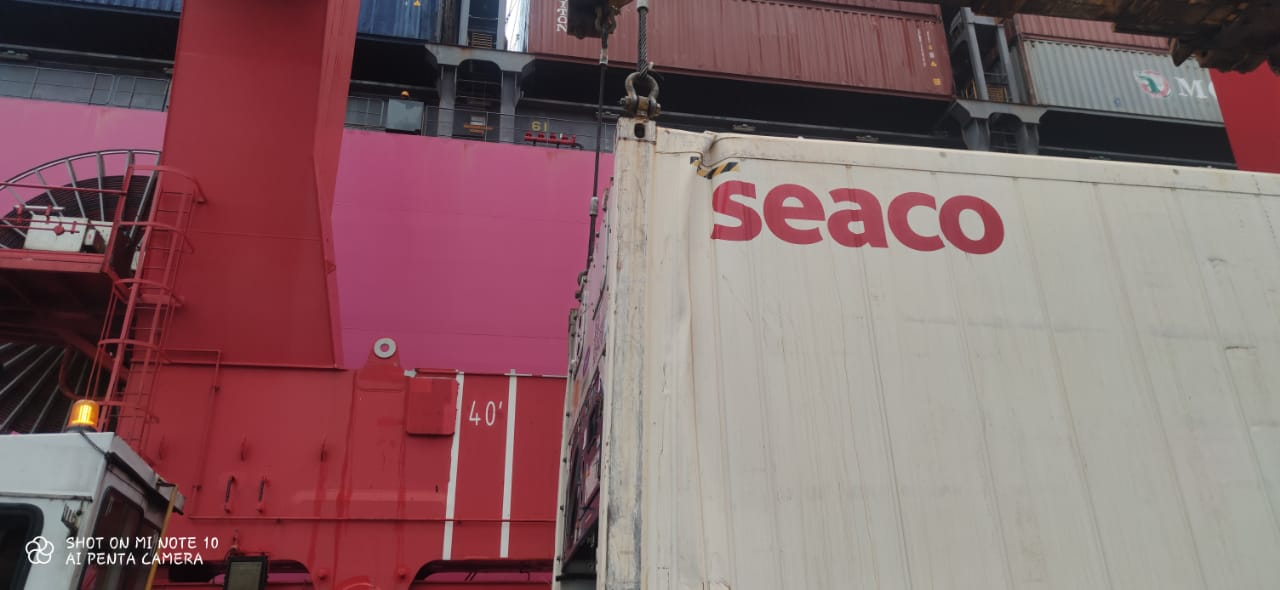moderate: (660, 126, 745, 266)
